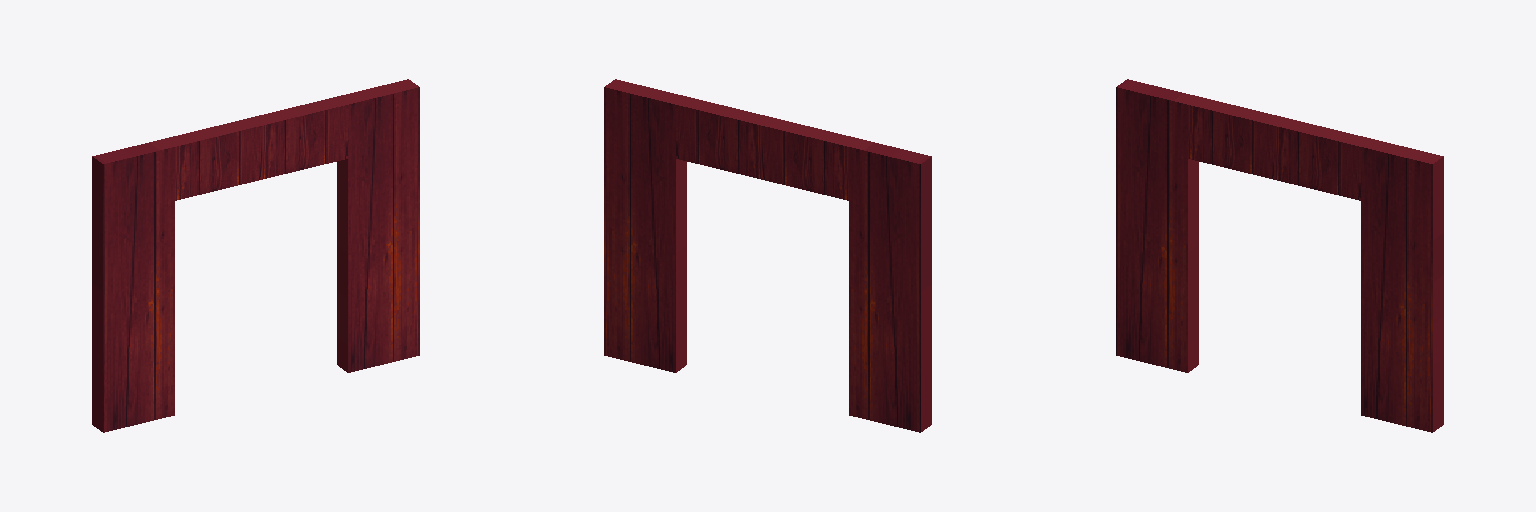
3 views of the same model, side by side, from view 1: azimuth 30°, elevation 25°; view 2: azimuth 150°, elevation 25°; view 3: azimuth 330°, elevation 25° (orthographic).
Visible parts, largest first — view 1: Cube.038; view 2: Cube.038; view 3: Cube.038.
Part boxes in pixels (bbox=[...]): Cube.038: bbox=[92, 79, 419, 432]; Cube.038: bbox=[604, 79, 931, 432]; Cube.038: bbox=[1116, 79, 1443, 432].
Size of the model in its own units: 5.91 by 4.79 by 0.3571.
Materials: 1 (1 with a texture image).